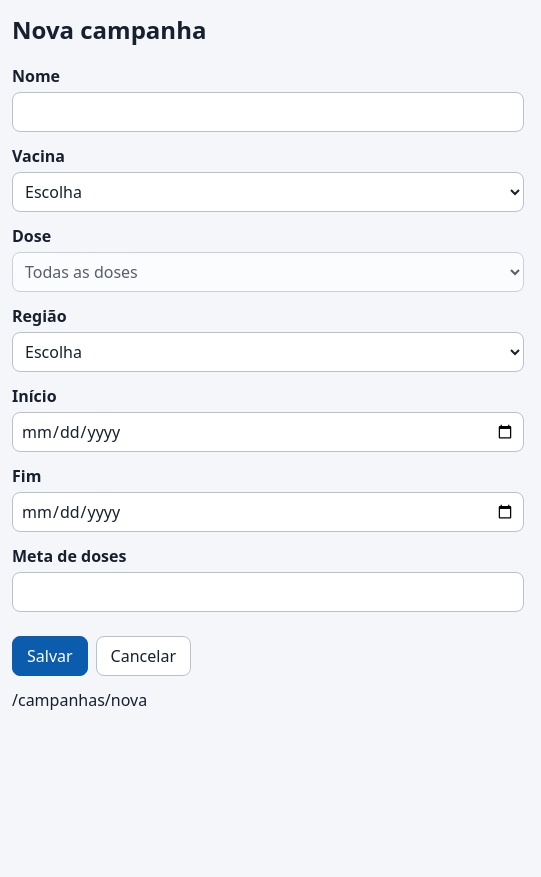
campaign form › validates on the client and sends nothing
Click the button "Salvar" at (50, 656), box top-left (12, 636), bottom-right (88, 676)
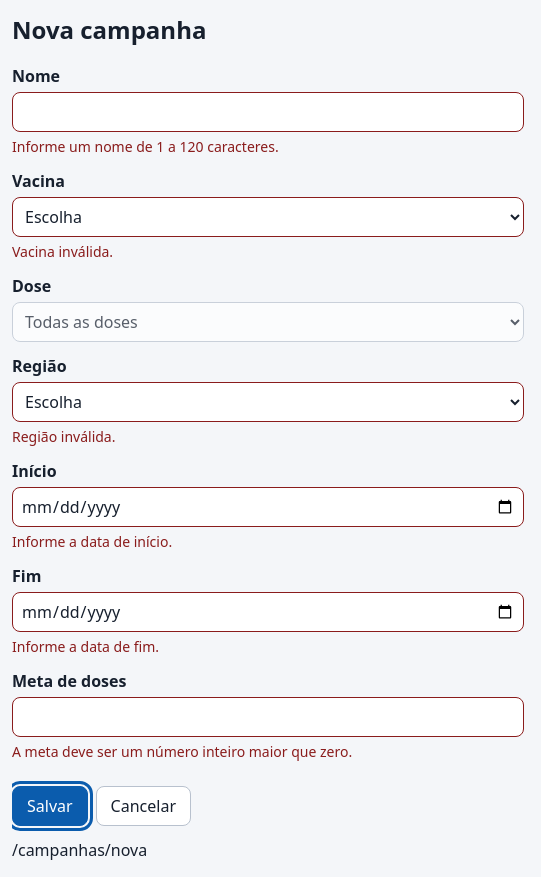
Expected: the text "Informe um nome de 1 a 120 caracteres." is shown, top-left (12, 137), bottom-right (279, 156)
Expected: the text "A meta deve ser um número inteiro maior que zero." is shown, top-left (12, 742), bottom-right (352, 761)
